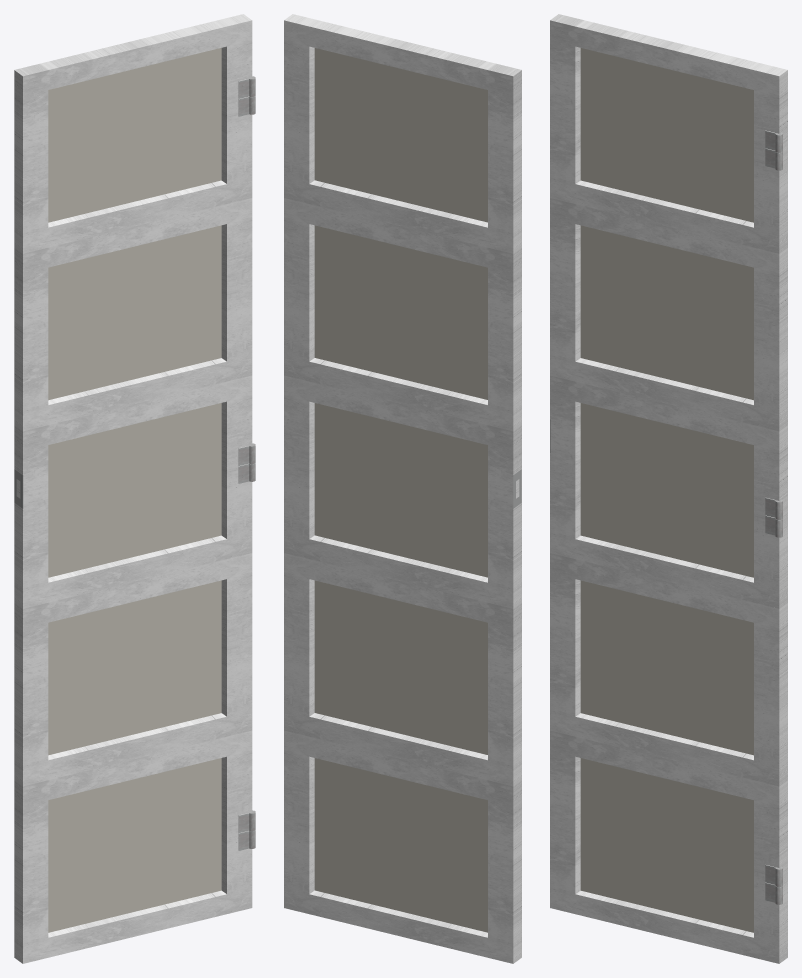
Rendered from DoorRight1.fbx.
The picture shows the model from 3 angles, left to right: view 1: azimuth 30°, elevation 25°; view 2: azimuth 150°, elevation 25°; view 3: azimuth 330°, elevation 25°; orthographic projection.
Visible parts, largest first — view 1: Door_Right1; view 2: Door_Right1; view 3: Door_Right1.
Part boxes in pixels (left/top/right/bottom): Door_Right1: left=14, top=14, right=255, bottom=963; Door_Right1: left=284, top=14, right=521, bottom=963; Door_Right1: left=550, top=14, right=787, bottom=963.
Size of the model in its own units: 69.64 by 254 by 5.45.
Materials: 3 (2 with a texture image).
